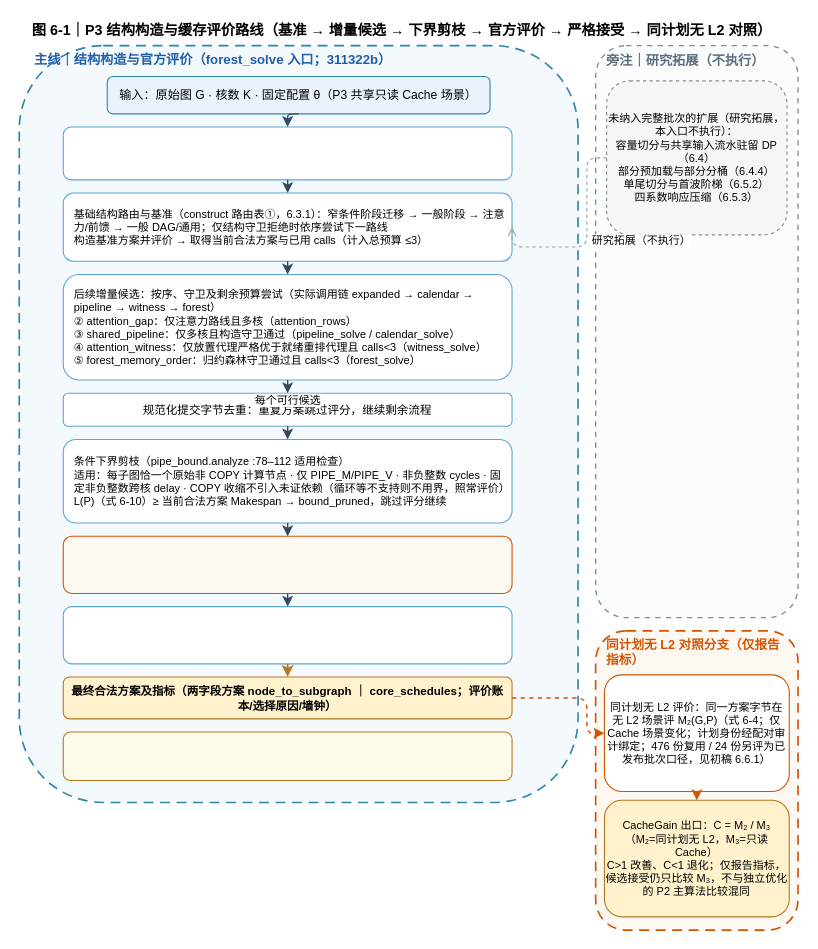
The diagram is 818 pixels wide and 949 high, and some of its shapes have lost their labels. The shapes that lost their labels are listed below. From the top down, each one's centre as x and y in pixels, then its label:
the point at 287,153: 结构索引（construct）：计算依赖、张量生产者/消费者 流水线类型、计算时长、张量字节
the point at 287,564: 仅评未被剪枝的候选：官方 P3 评价（未修改 E0；总上限 3 次在线，含基准） 求解器不可修改官方 Cache 替换规则、容量与带宽
the point at 287,635: 严格改进接受：执行合法且 M₃ 严格更小 → 更新当前方案； 合法性拒绝或相同成绩 → 保留已有合法方案（评价异常向外报告，不静默吞掉）
the point at 287,755: E0 预算为每图/核数 3 次在线调用（含基准）；候选较少不等于总墙钟等于某内部动态规划时长；程序缺陷、保存失败与未归类评价错误向外报告，不伪装成功回退
